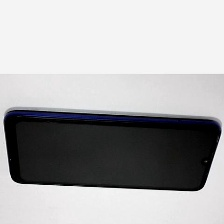phone: (0, 106, 223, 194)
